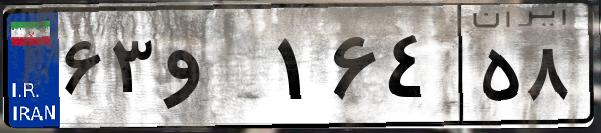1: (270, 28, 330, 110)
3: (110, 28, 158, 98)
4: (385, 28, 445, 110)
5: (475, 38, 525, 113)
6: (330, 28, 385, 110), (57, 26, 110, 100)
8: (525, 38, 570, 115)
و: (158, 20, 270, 120)
